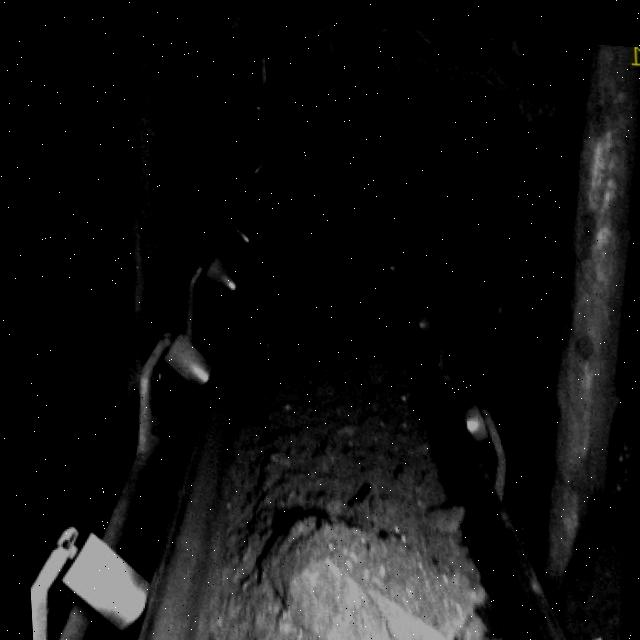large_sized_coal: (261, 514, 462, 640), (348, 334, 392, 391)
